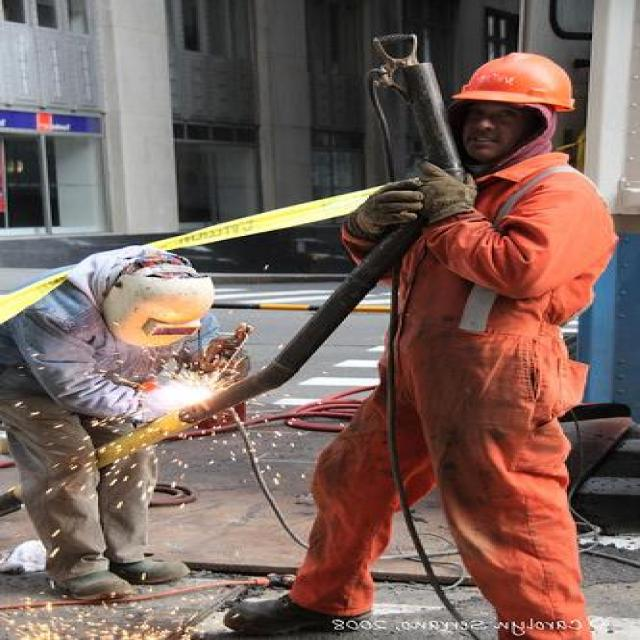Reflective-Jacket: (292, 132, 621, 611)
Safety-Helmet: (436, 44, 586, 124)
